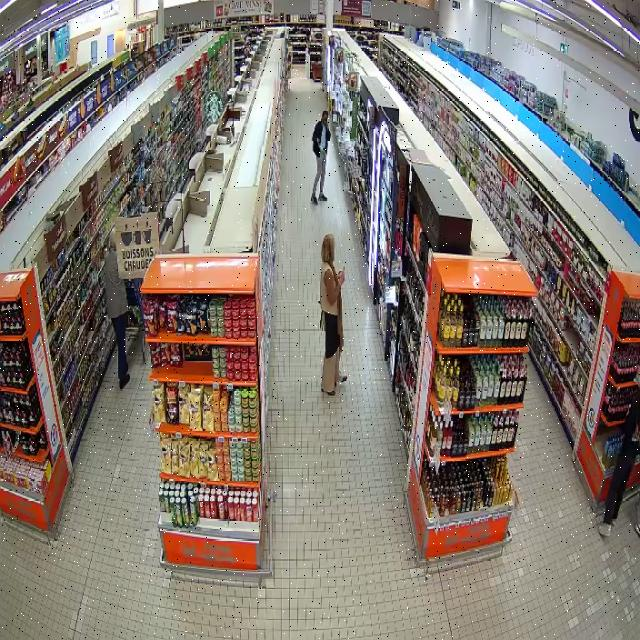article: (318, 143, 326, 156)
hands: (339, 269, 345, 284), (316, 140, 320, 146)
person: (598, 390, 639, 536), (319, 234, 345, 394), (103, 229, 129, 389), (311, 109, 330, 203)
